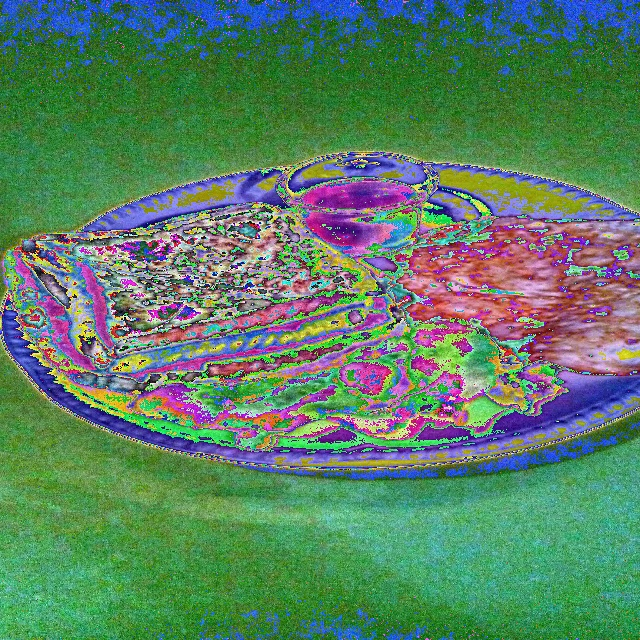background: (3, 180, 639, 449)
